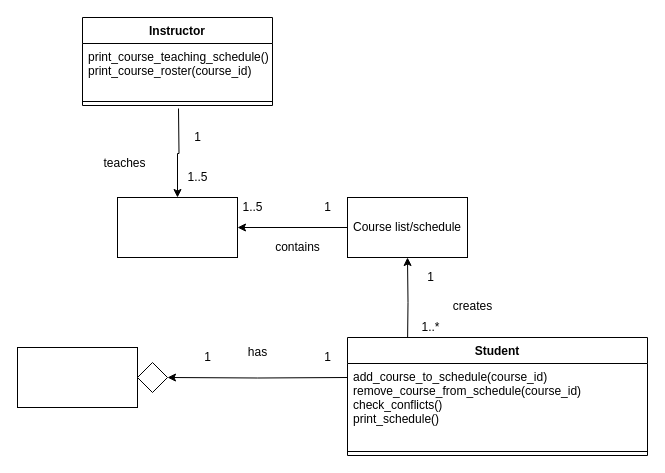
Some shapes in this 665 by 473 pixel diagram are drawn without their labels. Each missing label, with the centre of its shape:
"Course" belongs at point 177,227.
"Name, ID" belongs at point 77,377.
